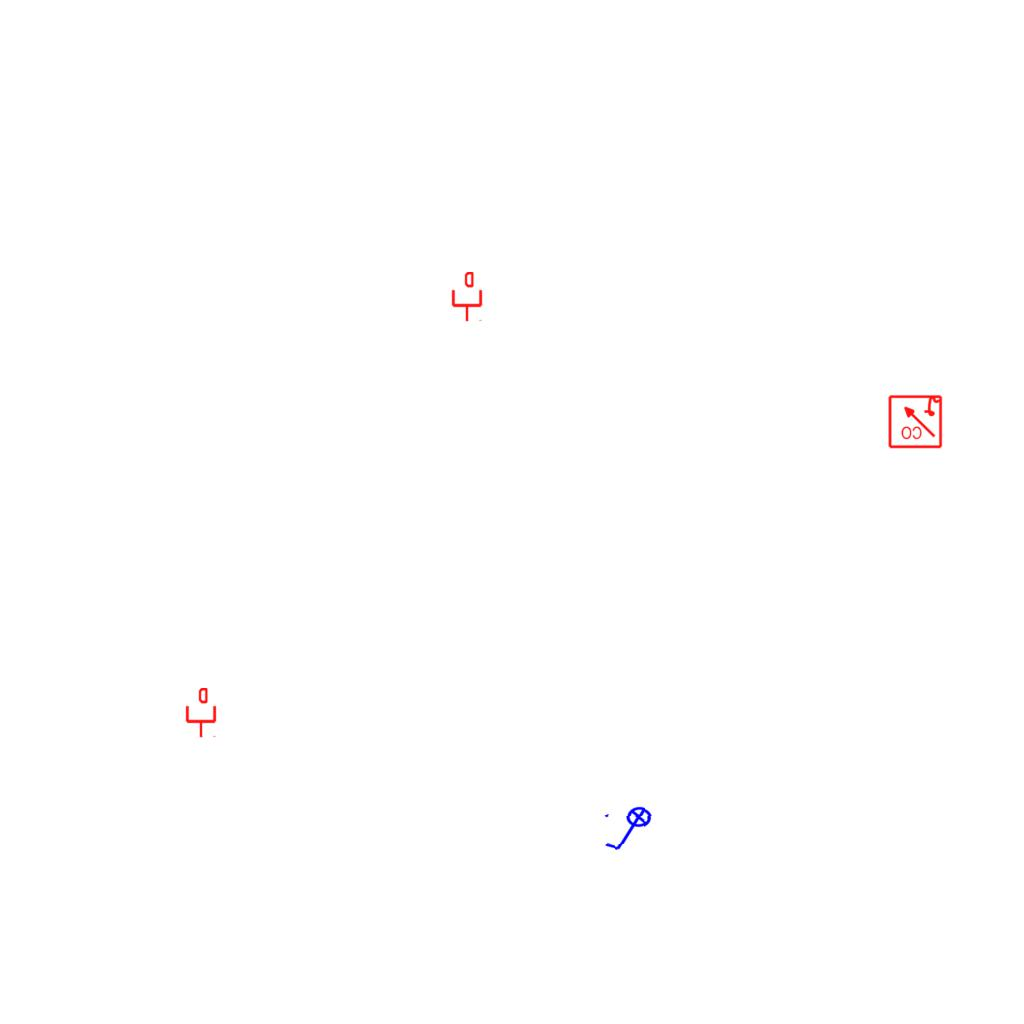Ausschalter_beleuchtet: (601, 805, 659, 855)
Datenanschluss_einfach: (184, 688, 218, 738), (450, 272, 484, 322)
ROA_Rauchmelder_optisch_mit_Signalgeber_(Sockelsirene): (887, 393, 943, 449)
